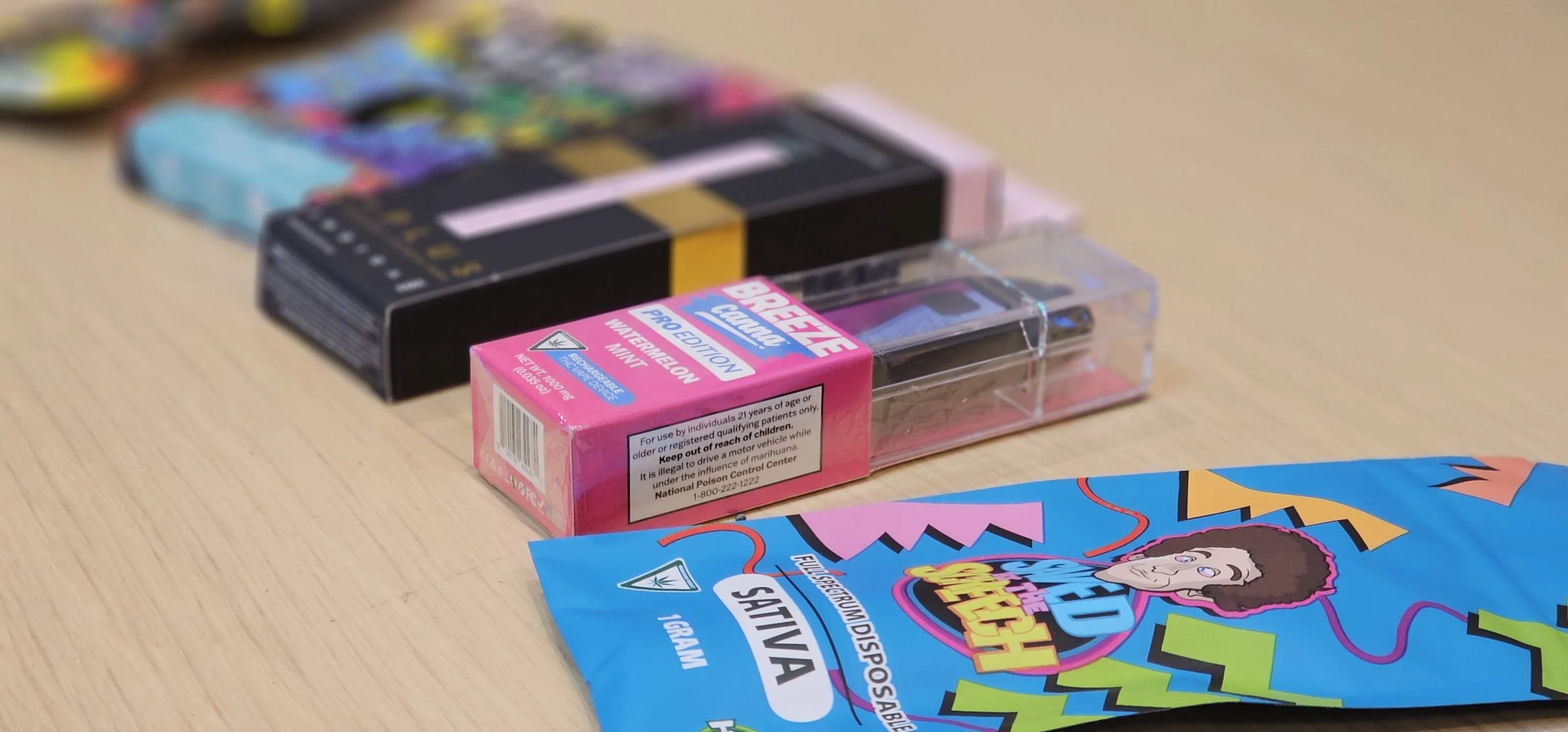weed_pen: (417, 239, 1232, 517)
